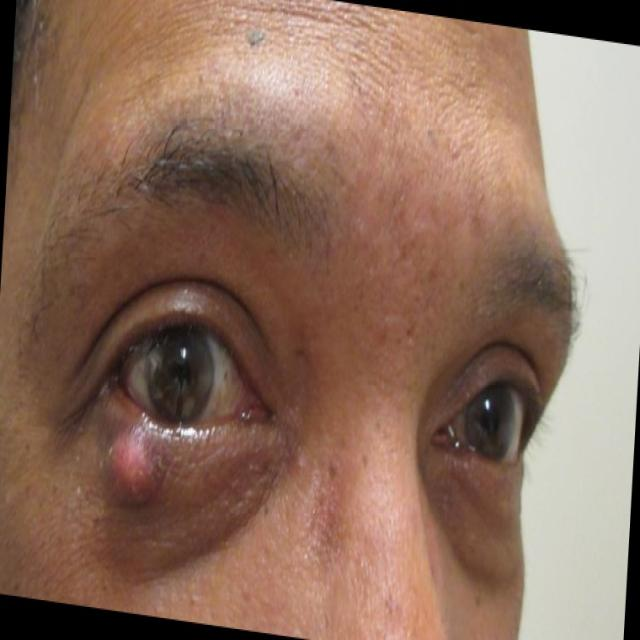Chalazion: (64, 230, 290, 532)
Healthy-Eye: (424, 301, 546, 530)
